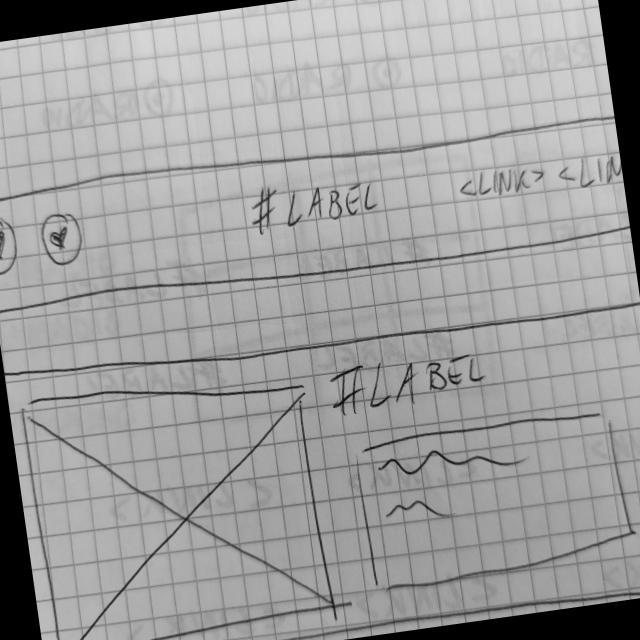container: (3, 279, 640, 640), (0, 100, 631, 325)
icon-button: (36, 208, 89, 270), (0, 214, 22, 279)
image: (16, 357, 339, 640)
label: (324, 341, 490, 423), (246, 169, 384, 239)
link: (455, 160, 548, 207), (554, 148, 624, 197)
textarea: (350, 404, 639, 599)
